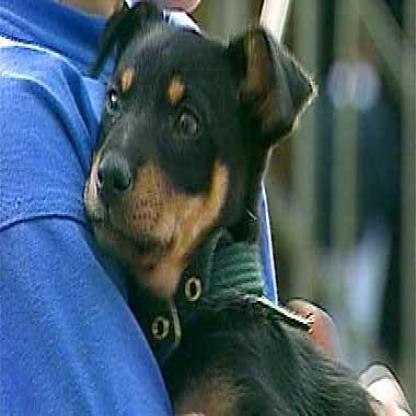kelpie: (83, 0, 382, 412)
